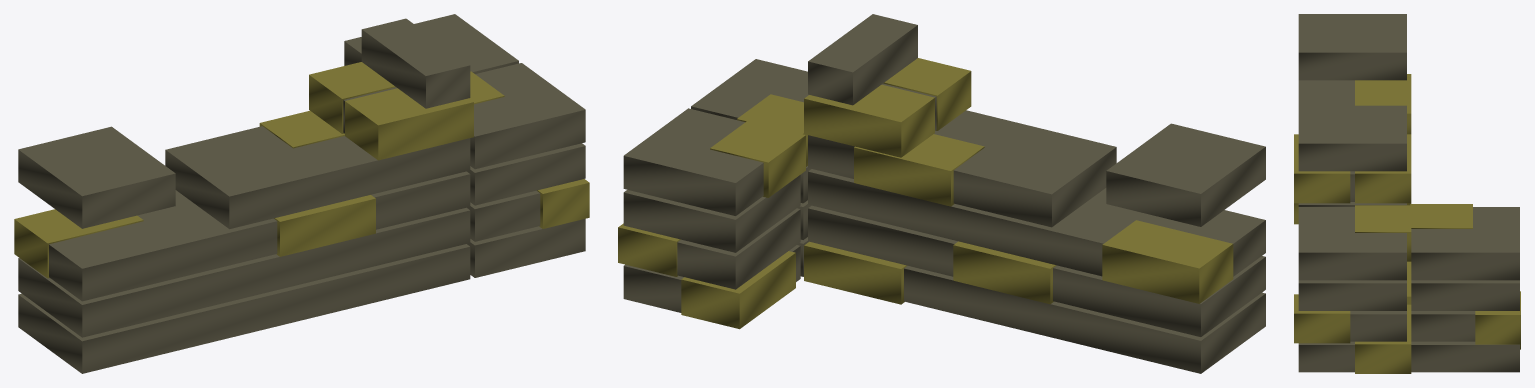
The model's file is SM_SacosRemateEspejo_v2_Irregular_e0_Sano_LOD1.fbx.
3 views of the same model, side by side, from view 1: azimuth 30°, elevation 25°; view 2: azimuth 150°, elevation 25°; view 3: azimuth 270°, elevation 25° (orthographic). The views are drawn at different scales.
Visible parts, largest first — view 1: SM_sacos_piezas_v28_LOD1; view 2: SM_sacos_piezas_v28_LOD1; view 3: SM_sacos_piezas_v28_LOD1.
Boxes of the visible parts, <box> form: SM_sacos_piezas_v28_LOD1: <box>14,14,589,373</box>; SM_sacos_piezas_v28_LOD1: <box>618,14,1265,373</box>; SM_sacos_piezas_v28_LOD1: <box>1294,14,1520,373</box>.
Bounding box in the file's own units: 4.41 × 1.78 × 2.01.
